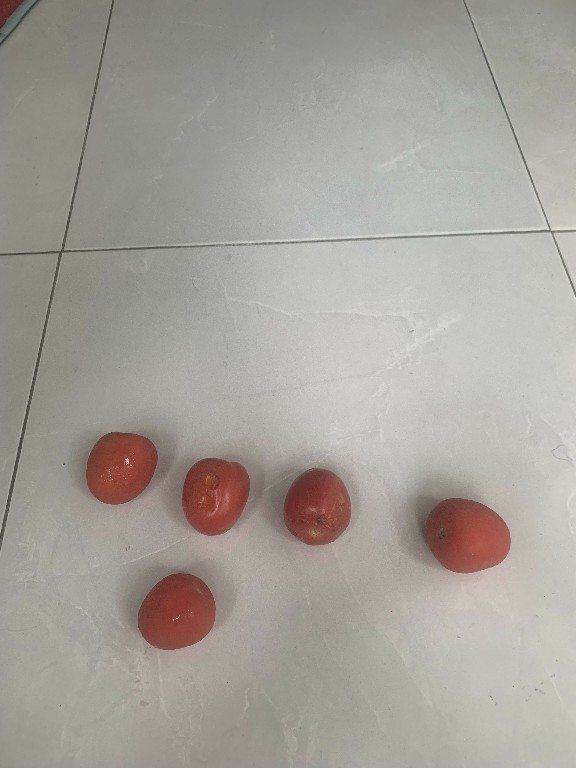NG: (275, 461, 355, 550), (173, 449, 252, 539)
OK: (417, 490, 517, 575), (77, 419, 163, 508), (130, 567, 216, 654)
